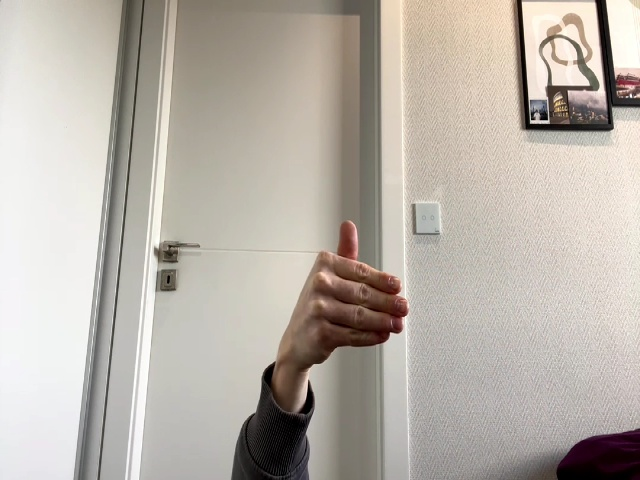M: (291, 220, 408, 381)
